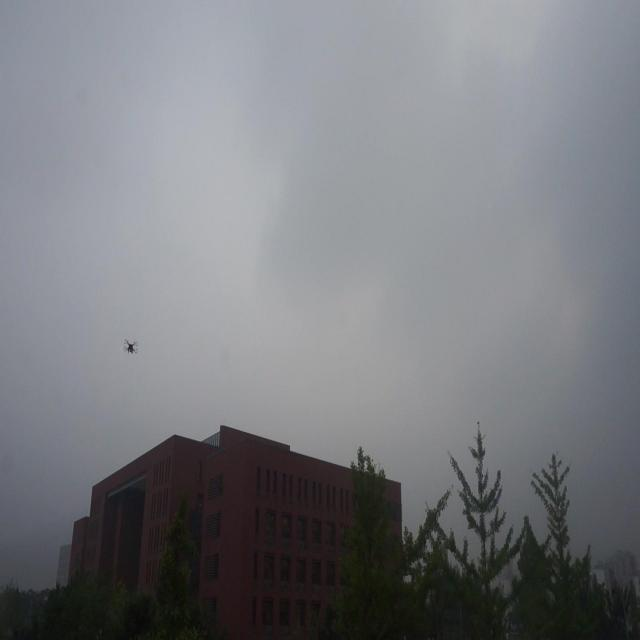UAV: (124, 338, 138, 354)
